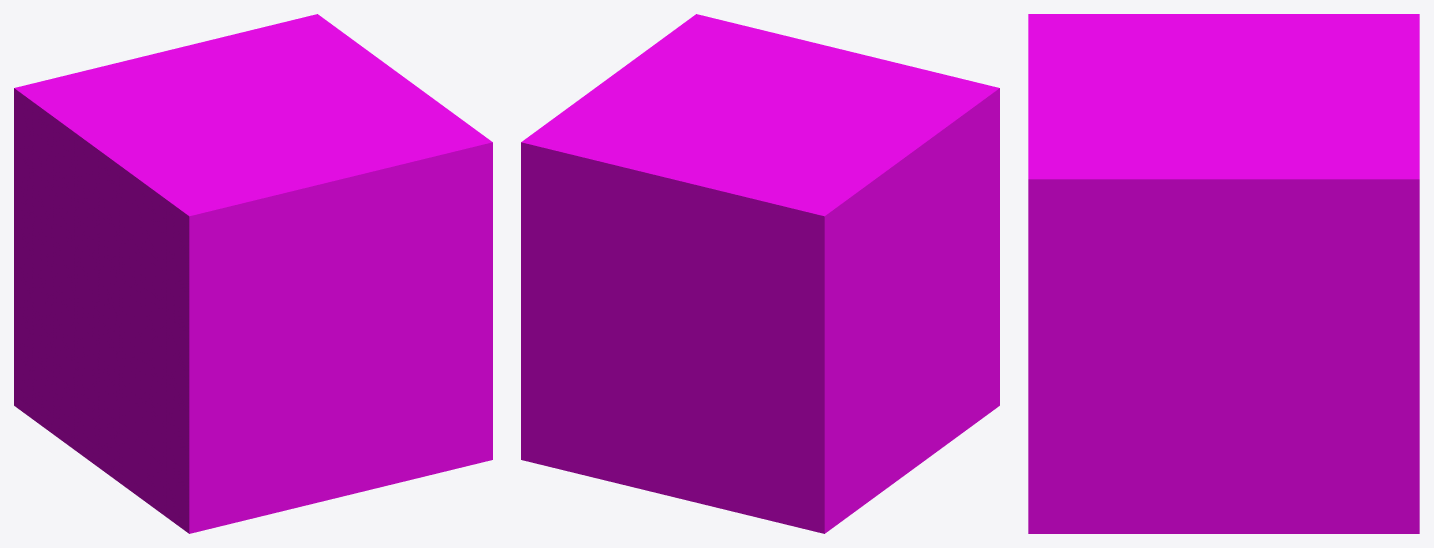
Rendered from PGR3.obj.
The picture shows the model from 3 angles, left to right: view 1: azimuth 30°, elevation 25°; view 2: azimuth 150°, elevation 25°; view 3: azimuth 270°, elevation 25°; orthographic projection. The views are drawn at different scales.
Visible parts, largest first — view 1: Cube_Cube.001; view 2: Cube_Cube.001; view 3: Cube_Cube.001.
Part boxes in pixels (left/top/right/bottom): Cube_Cube.001: left=14, top=14, right=492, bottom=533; Cube_Cube.001: left=521, top=14, right=999, bottom=533; Cube_Cube.001: left=1028, top=14, right=1419, bottom=533.
Bounding box in the file's own units: 1 × 1 × 1.
1 material, 1 textured.
